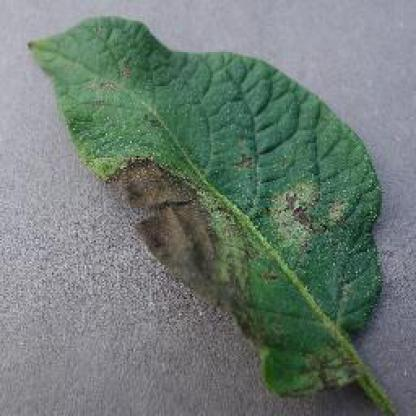bad leaf: (18, 9, 409, 415)
